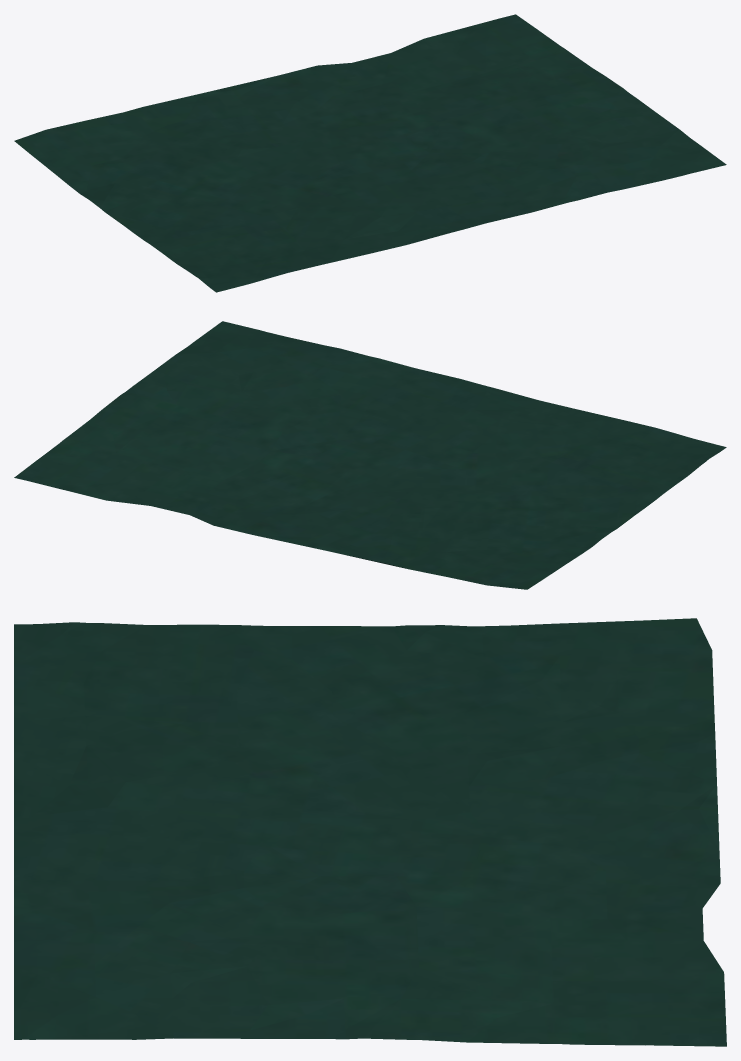
The picture shows the model from 3 angles, top to bottom: view 1: azimuth 30°, elevation 25°; view 2: azimuth 150°, elevation 25°; view 3: azimuth 270°, elevation 25°; orthographic projection. The views are drawn at different scales.
Size of the model in its own units: 52.22 by 0.8837 by 37.4.
Materials: 2 (2 with a texture image).
